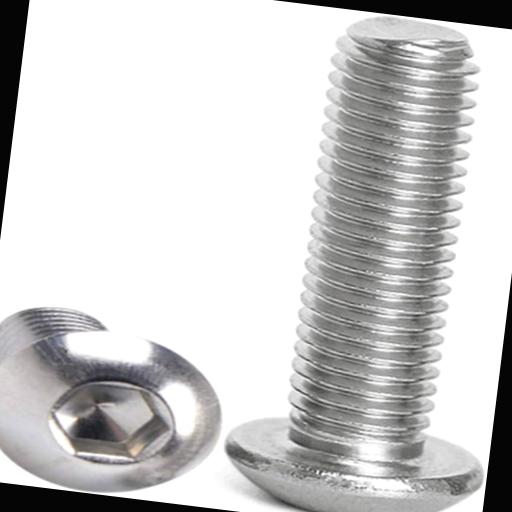Hex-Allen: (0, 315, 233, 508)
